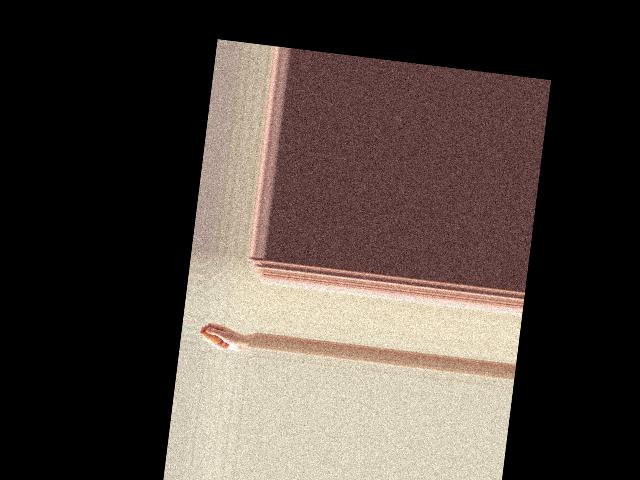egg: (201, 328, 223, 345)
